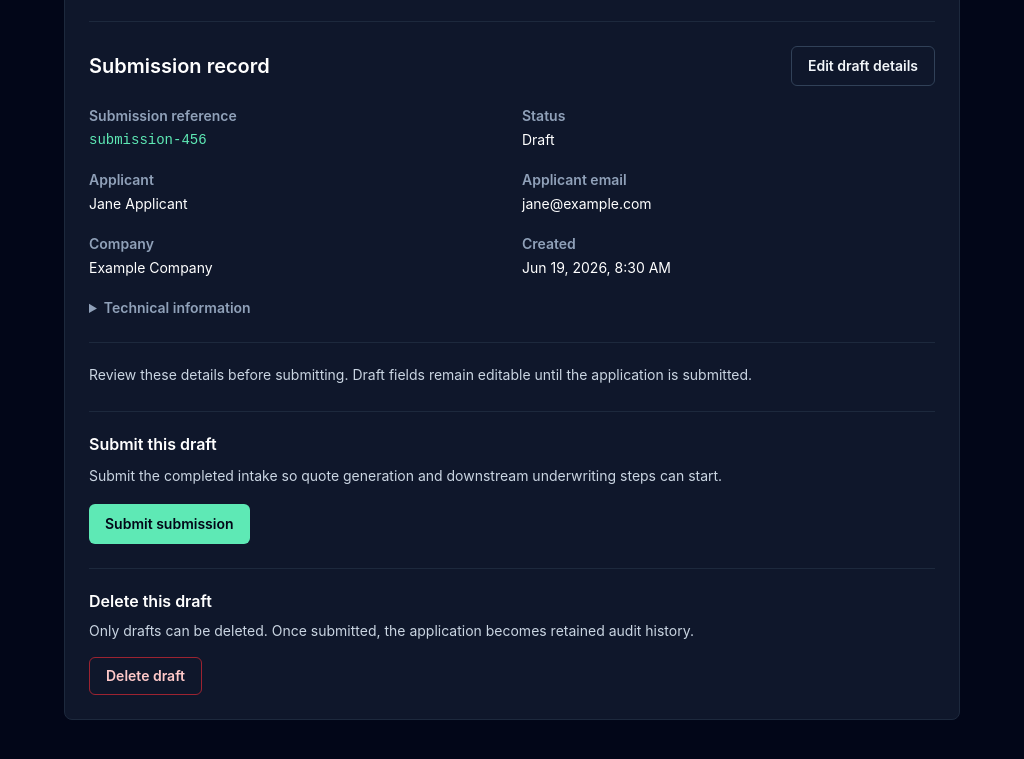
SubmissionDetailPage › submits a draft submission and updates the displayed status
The image size is (1024, 759).
(page scrolled)
Step 1. Click the button "Submit submission" → (169, 524), box 89,504 -> 250,544
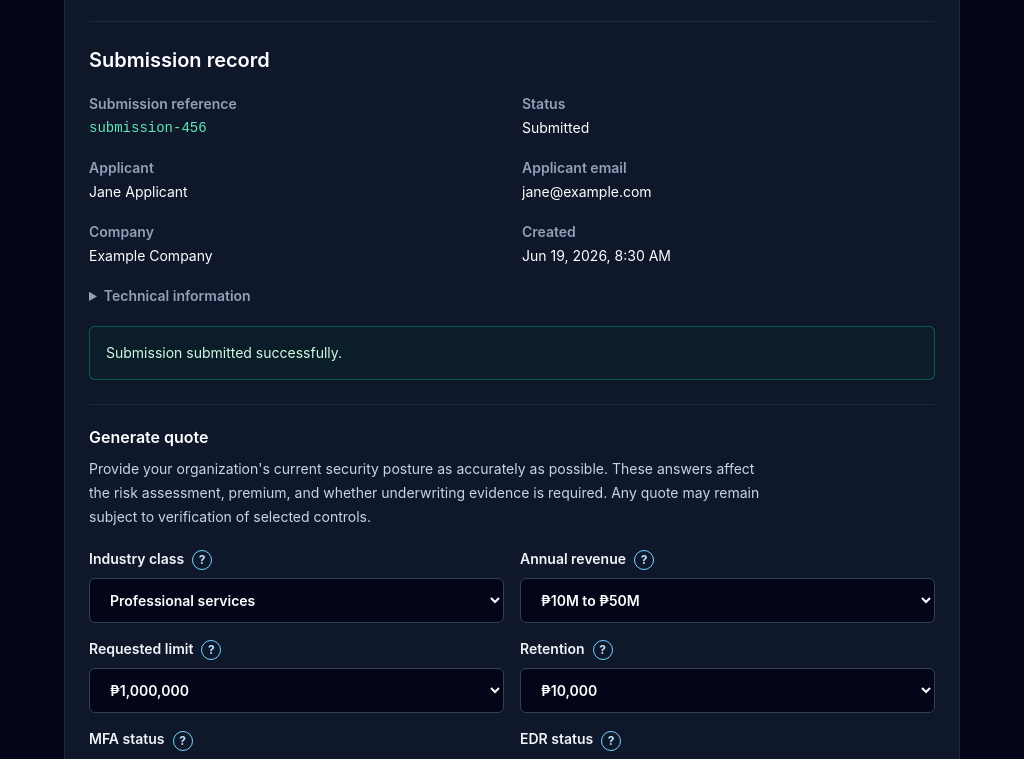
Check: the text "Submission submitted successfully." is shown, box 89,326 -> 935,380
Check: the text "Submitted" is shown, box 522,119 -> 589,136
Check: the button "Submit submission" is gone
